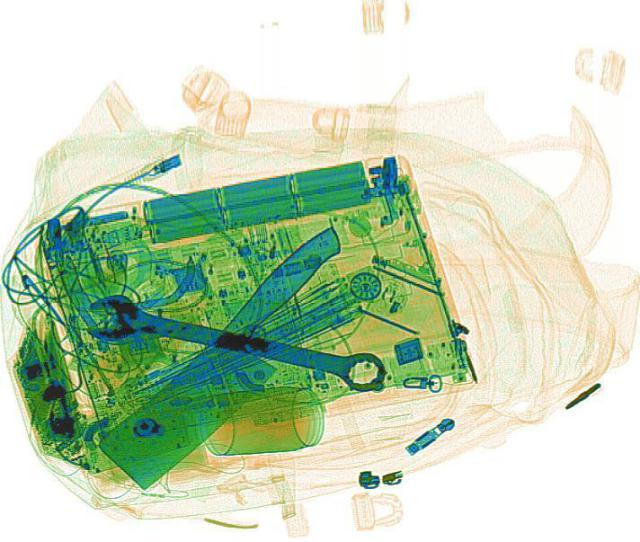Knife: (78, 221, 392, 490)
Wrench: (76, 287, 392, 396)
